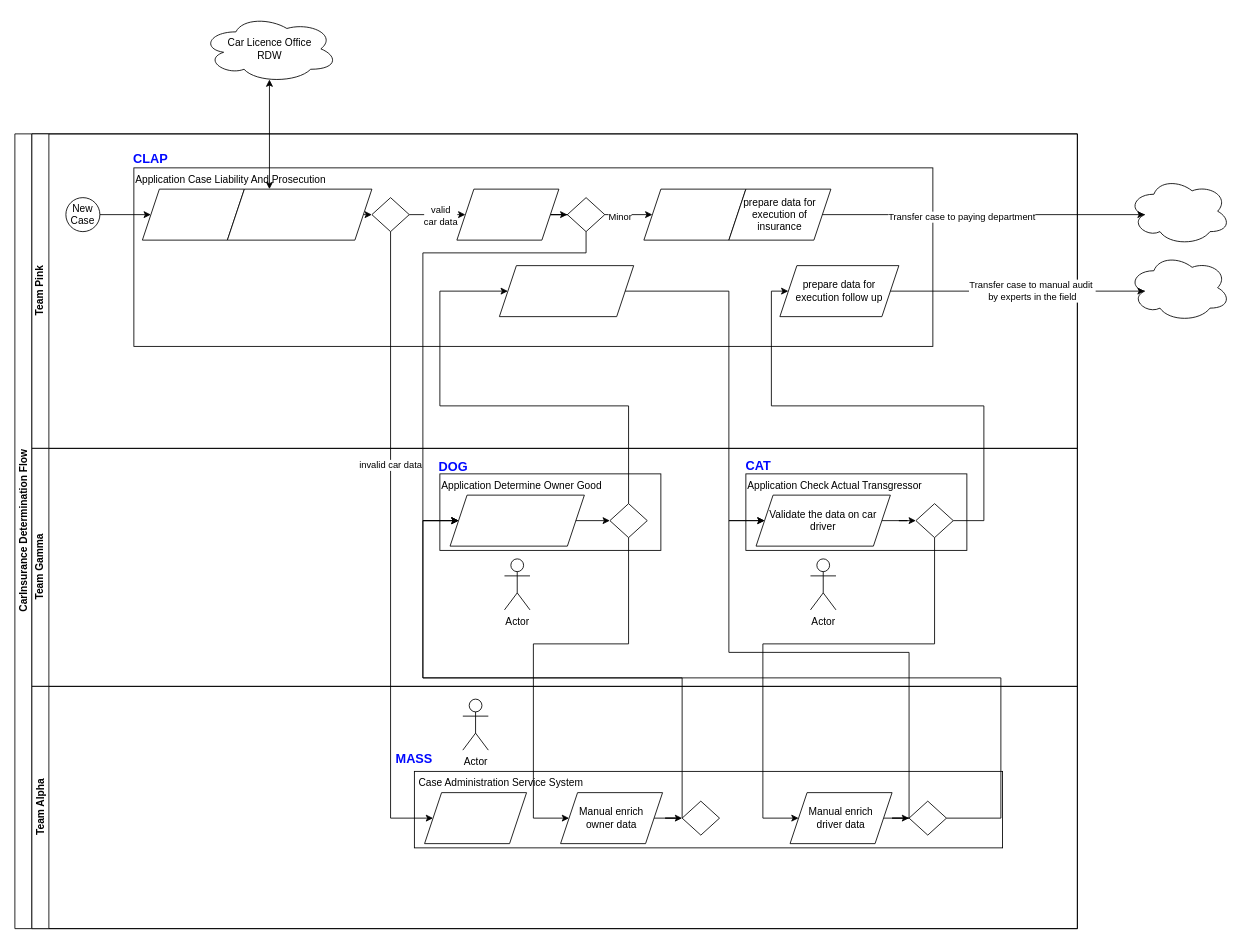
This 1245x944 diagram has some shape labels left out. The shapes that lost their labels are listed below. From the top down, each one's centre as x and y in pixels, then its label:
At point 193,214: "Validate input".
At point 299,214: "Retrieve additional case data".
At point 507,214: "determine severity".
At point 694,214: "automatic case handler".
At point 1179,210: "insurance payout execution".
At point 566,291: "Update case data on car owner".
At point 1179,287: "insurance experts execution".
At point 516,520: "Validate the data on car owner vs actual owner".
At point 475,818: "Manual enrich car data".
